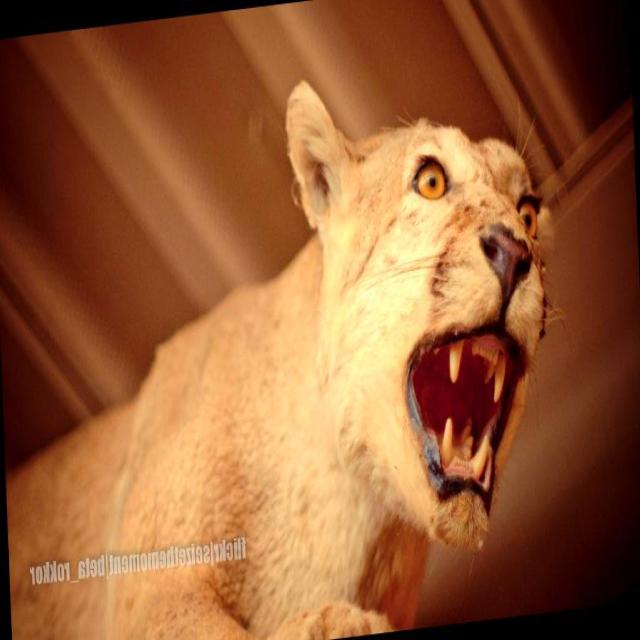Lion: (0, 47, 586, 639)
